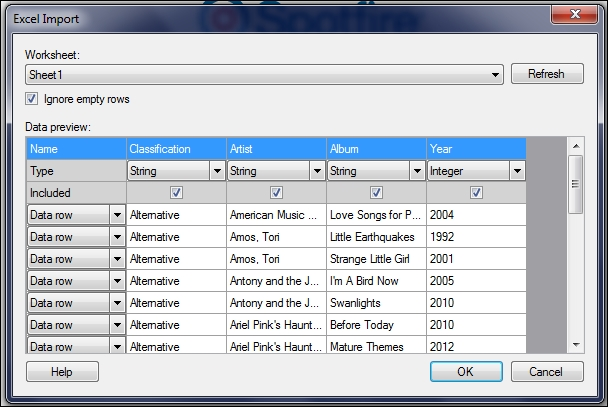BUTTON: (509, 359, 585, 384), (429, 359, 504, 384), (510, 62, 585, 85), (26, 360, 100, 383)
CHECKBOX_CHECKED: (169, 185, 184, 200), (269, 185, 284, 200), (369, 185, 384, 200), (469, 185, 484, 200), (24, 91, 39, 106)
COLUMN: (25, 136, 127, 354), (126, 136, 228, 354), (226, 136, 328, 354), (326, 135, 428, 353), (427, 137, 529, 355)
COMBOBOX: (24, 63, 505, 86), (26, 203, 128, 227), (327, 159, 429, 182), (25, 269, 127, 292), (126, 159, 227, 182), (226, 159, 327, 182), (427, 159, 527, 182), (25, 225, 127, 247), (25, 247, 127, 269), (25, 291, 127, 313), (26, 313, 127, 335), (25, 334, 127, 355)
DROPDOWN_HANDLE: (482, 63, 505, 86), (108, 202, 128, 227), (408, 159, 429, 182), (507, 158, 527, 182), (308, 158, 327, 182), (108, 268, 127, 292), (108, 224, 127, 247), (108, 246, 127, 269), (108, 312, 127, 335), (208, 160, 227, 182), (108, 291, 127, 313), (108, 334, 127, 355)
HEADER_ROW: (26, 136, 526, 160)
IMAGEBUTTON: (551, 5, 598, 23)
ROW: (25, 159, 525, 180), (26, 248, 526, 269), (27, 270, 527, 291), (26, 314, 526, 335), (26, 292, 526, 313), (26, 334, 526, 355), (25, 226, 525, 247), (27, 202, 527, 223)
SCROLLBAR_VERTICAL: (567, 137, 585, 354)
SCROLLBAR_VERTICAL_BAR: (568, 155, 584, 214)
SCROLLBAR_VERTICAL_HANDLE_DOWN: (567, 335, 585, 353)
SCROLLBAR_VERTICAL_HANDLE_UP: (567, 136, 584, 155)
TABLE: (25, 137, 526, 353)
